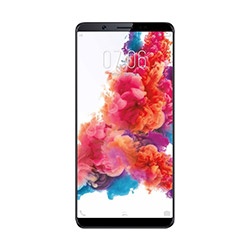Handphone: (72, 19, 178, 232)
